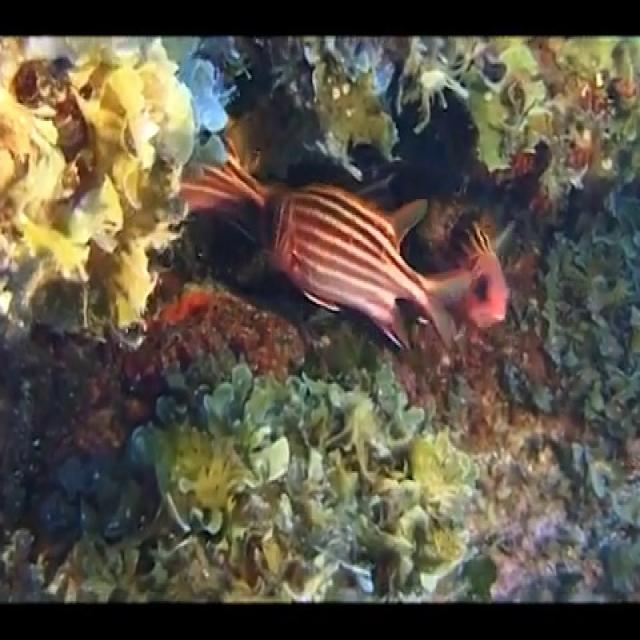Asker Baligi: (176, 139, 512, 357)
